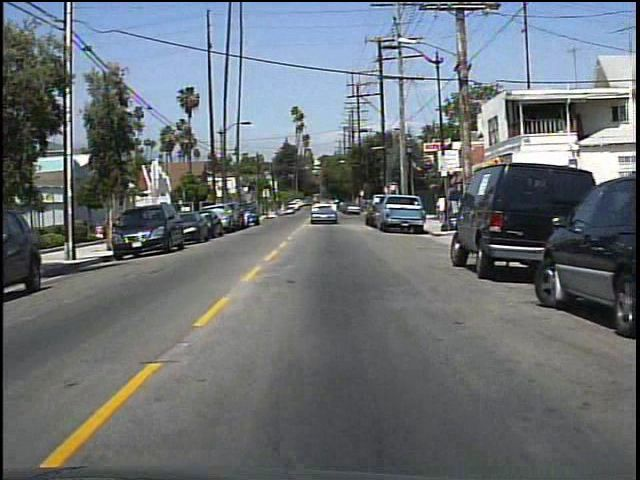person: (433, 194, 451, 226)
